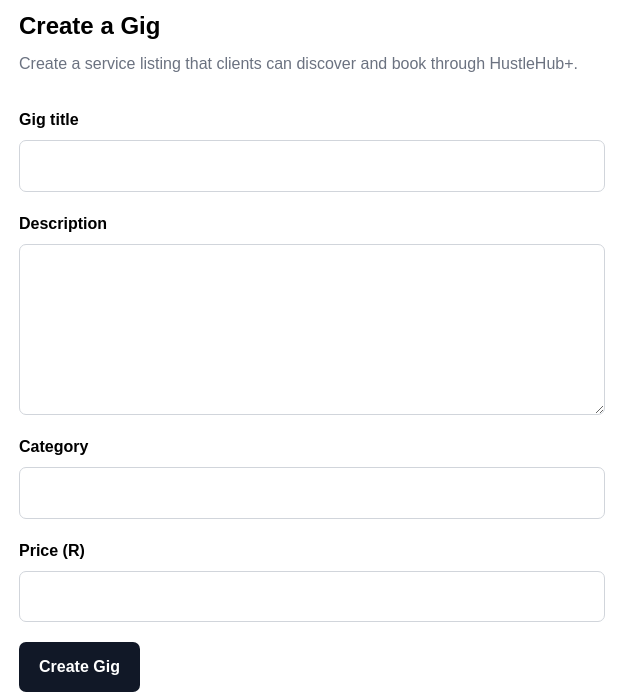
Test: CreateGig › rejects a title shorter than 3 characters
Type "Hi" into the field labelled "Gig title" at [312, 166], box top-left (19, 140), bottom-right (605, 192)
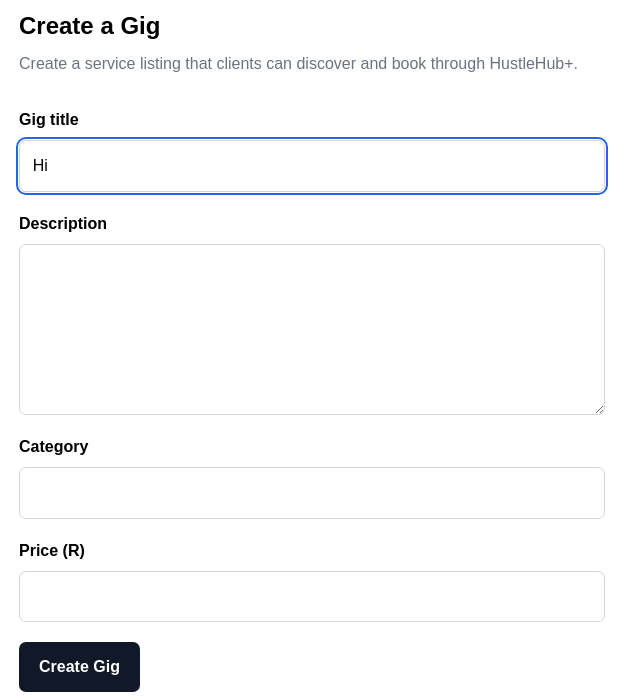
Click the button "Create Gig" at [79, 667], box top-left (19, 642), bottom-right (140, 692)
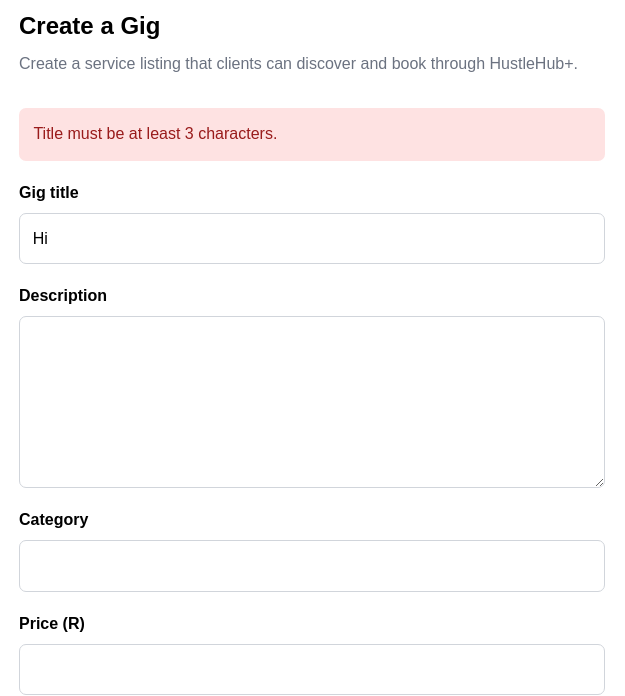
Check: the message reads "Title must be at least 3 characters.", box top-left (33, 125), bottom-right (277, 142)
